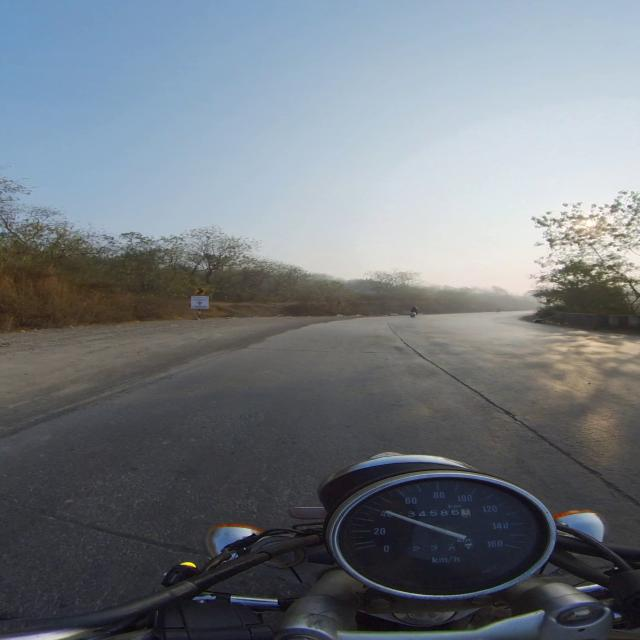motorcycle: (2, 454, 639, 639)
